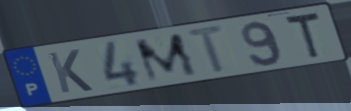4: (100, 39, 144, 89)
9: (239, 20, 285, 67)
K: (45, 48, 96, 95)
M: (132, 31, 202, 85)
T: (184, 23, 230, 77), (282, 10, 324, 61)
